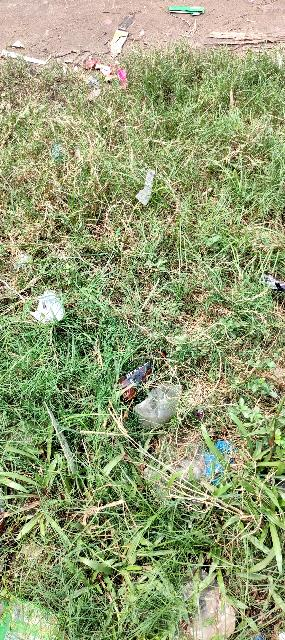bottle: (111, 347, 183, 400)
